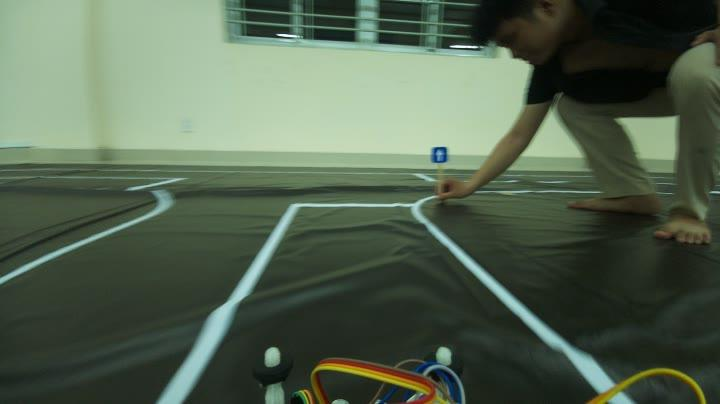onewayroad: (428, 142, 455, 172)
